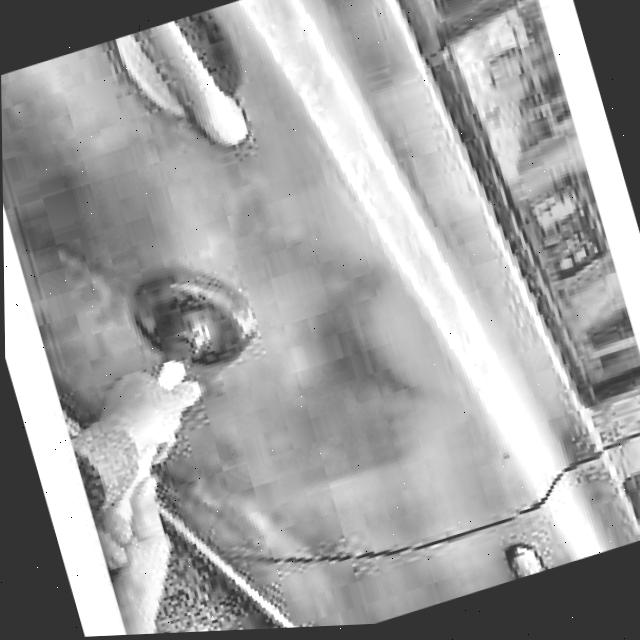door_dent: (219, 193, 442, 478)
